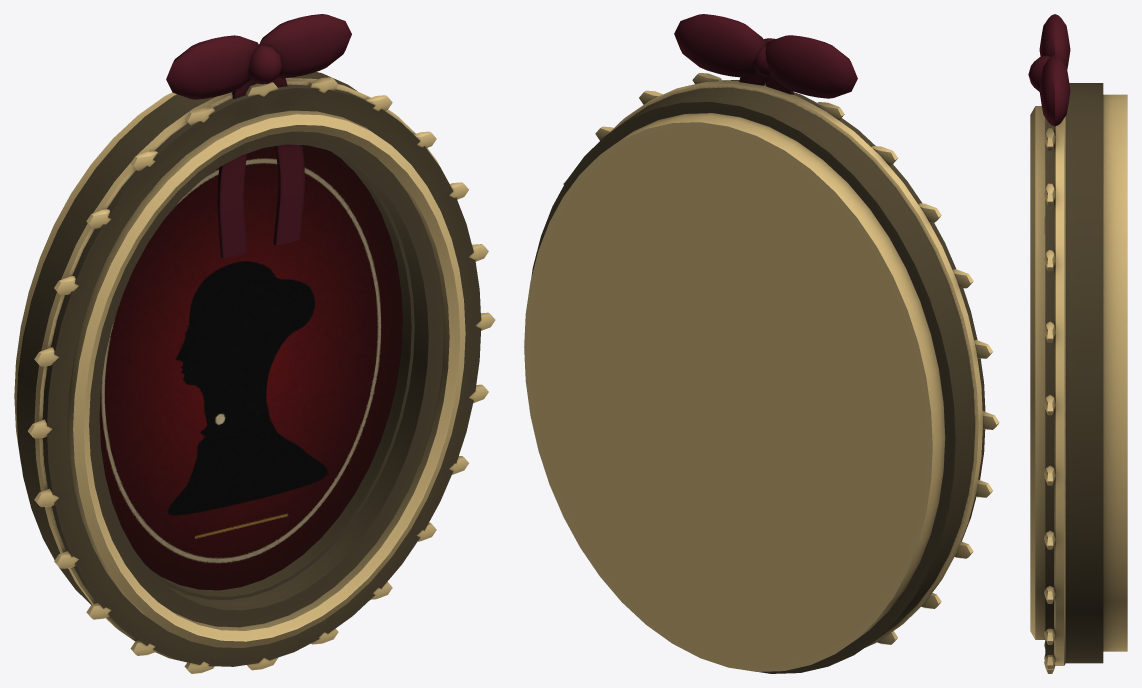
Rendered from CameoSilhouette.fbx.
The picture shows the model from 3 angles, left to right: view 1: azimuth 30°, elevation 25°; view 2: azimuth 150°, elevation 25°; view 3: azimuth 270°, elevation 25°; orthographic projection. The views are drawn at different scales.
Parts seen in each view (by area): view 1: CameoSilhouette_Main, CameoSilhouette_Canvas; view 2: CameoSilhouette_Main; view 3: CameoSilhouette_Main.
Part boxes in pixels (x1,y1,x2,y2): CameoSilhouette_Main: [14, 14, 495, 673]; CameoSilhouette_Canvas: [99, 145, 402, 590]; CameoSilhouette_Main: [524, 14, 999, 673]; CameoSilhouette_Main: [1028, 14, 1127, 673].
Bounding box in the file's own units: 212 × 279 × 41.
